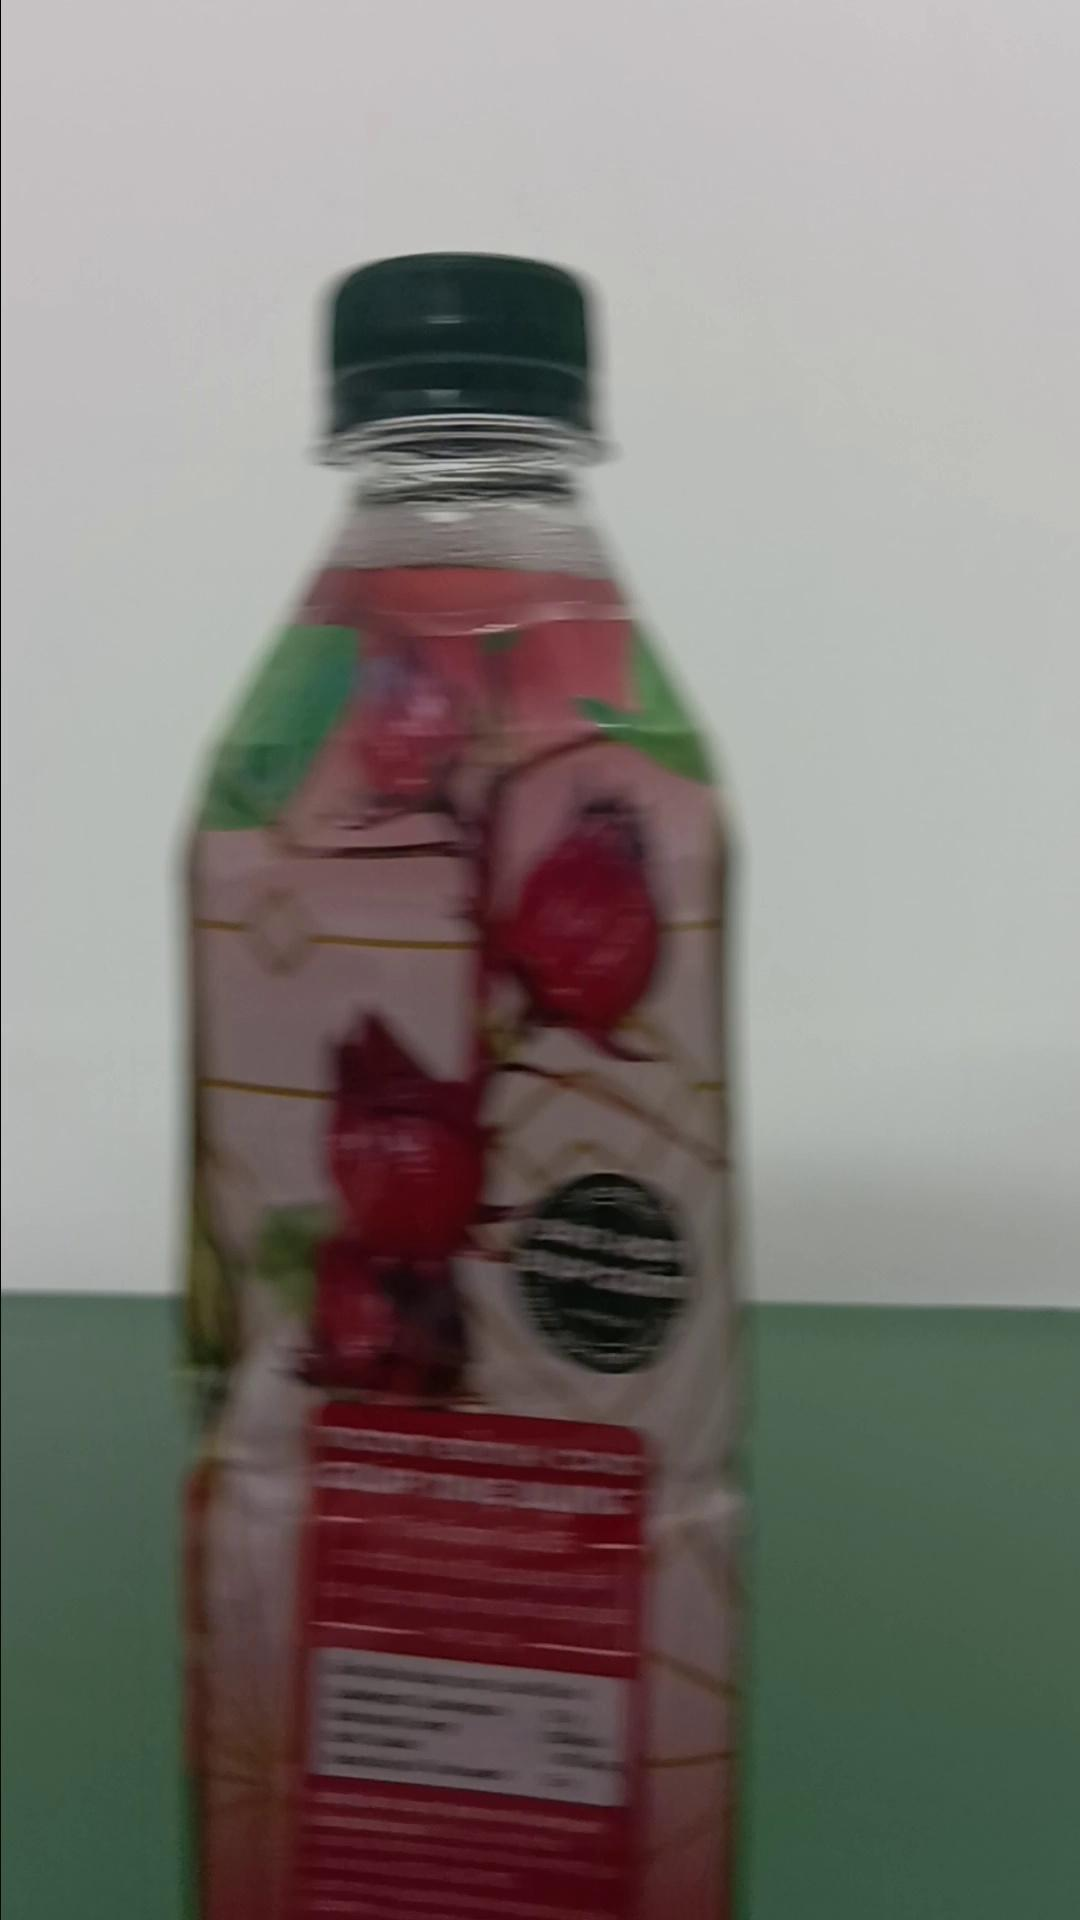loi meo sp: (175, 249, 748, 1915)
